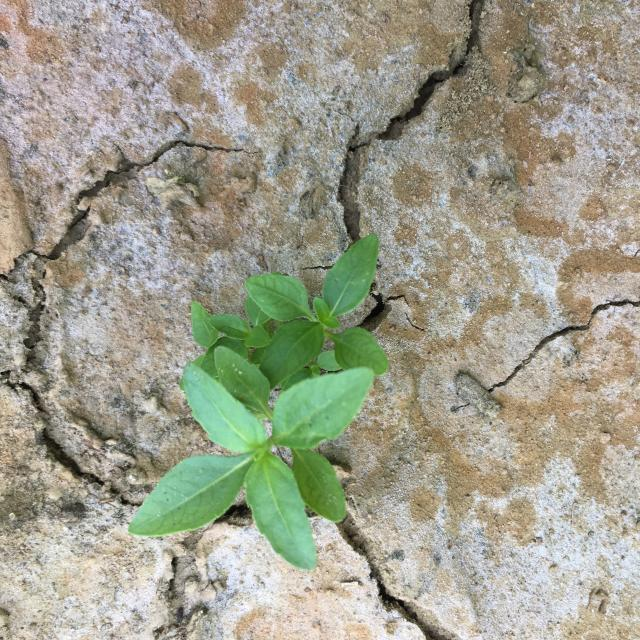Eclipta: (128, 234, 388, 572)
